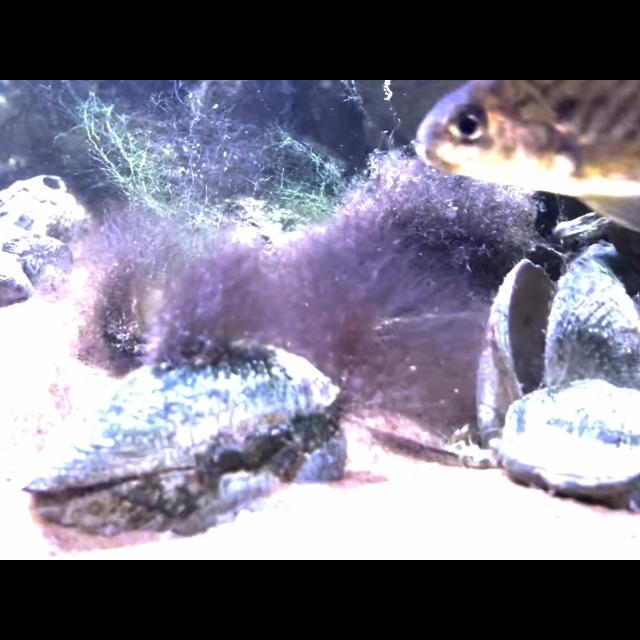Oyster-Closed: (498, 378, 640, 498)
Oyster-Open: (22, 340, 344, 538), (474, 254, 640, 458)
